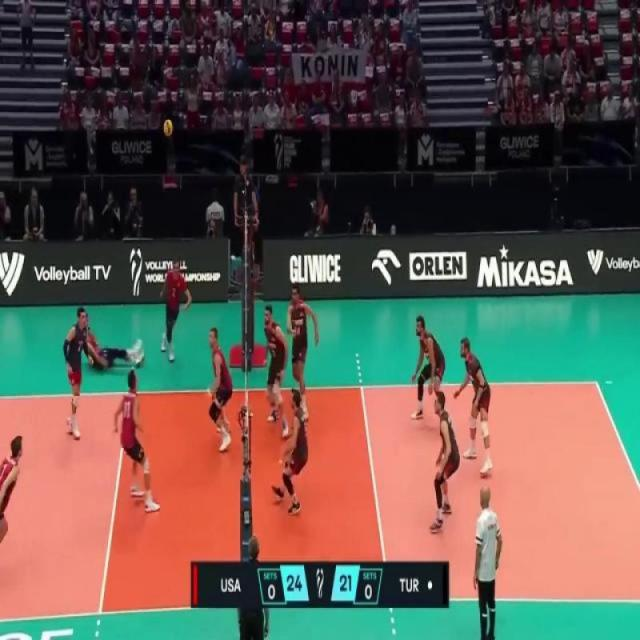volleyball: (162, 116, 174, 140)
